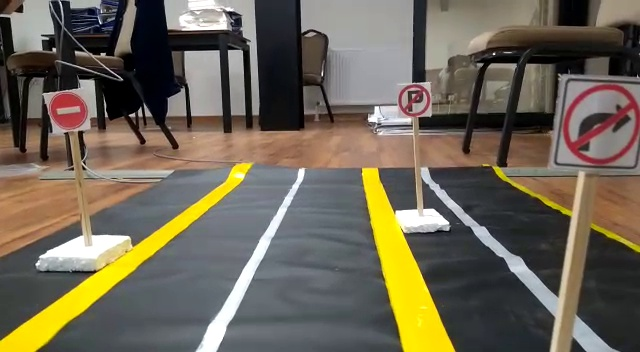girisi_olmayan_yol: (50, 92, 93, 131)
park_yapilmaz: (395, 82, 431, 117)
saga_donulmez: (561, 75, 640, 170)
